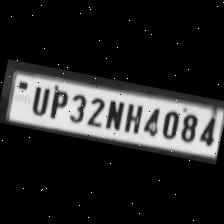0: (158, 106, 182, 141)
2: (83, 92, 107, 128)
3: (64, 90, 89, 124)
4: (139, 103, 163, 138), (195, 113, 220, 146)
8: (176, 110, 202, 144)
H: (120, 99, 145, 135)
N: (101, 96, 126, 133)
P: (45, 86, 70, 121)
U: (25, 82, 52, 118)
